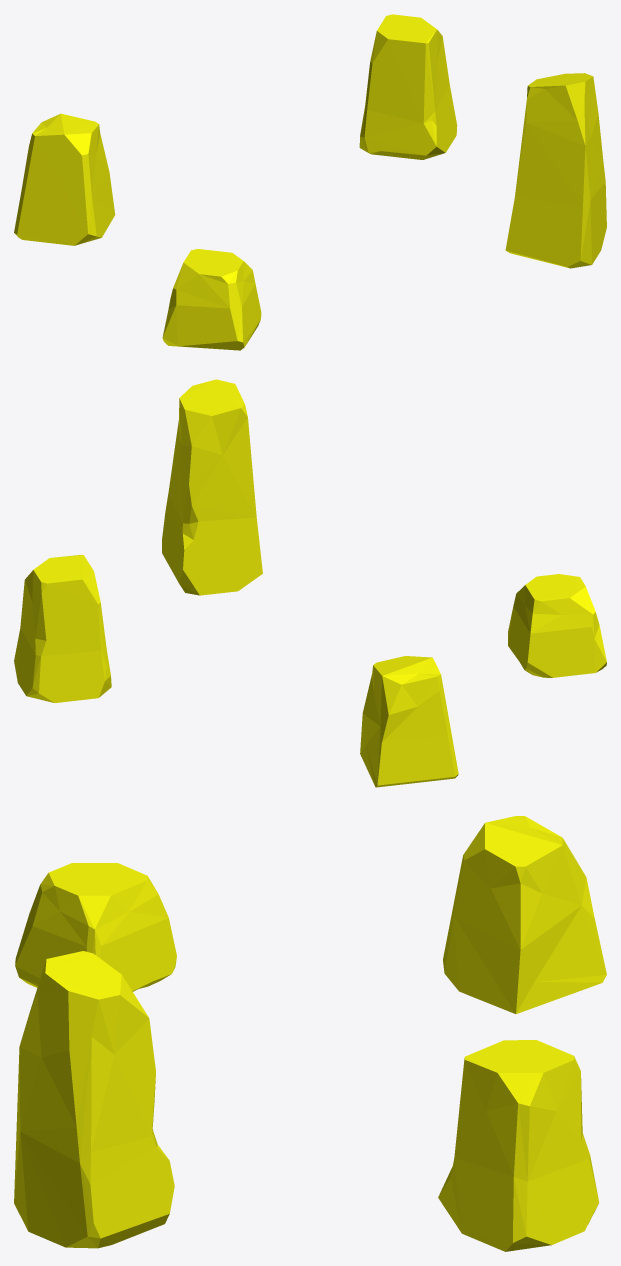
File: Portal_02.glb
3 views of the same model, one above another, from view 1: azimuth 30°, elevation 25°; view 2: azimuth 150°, elevation 25°; view 3: azimuth 270°, elevation 25° (orthographic). The views are drawn at different scales.
Parts seen in each view (by area): view 1: Portal_02; view 2: Portal_02; view 3: Portal_02.
Part boxes in pixels (x1,y1,x2,y2): Portal_02: [14, 14, 606, 350]; Portal_02: [14, 379, 606, 787]; Portal_02: [14, 816, 606, 1251].
Bounding box in the file's own units: 4.67 × 1.81 × 3.76.
1 material, 1 textured.
